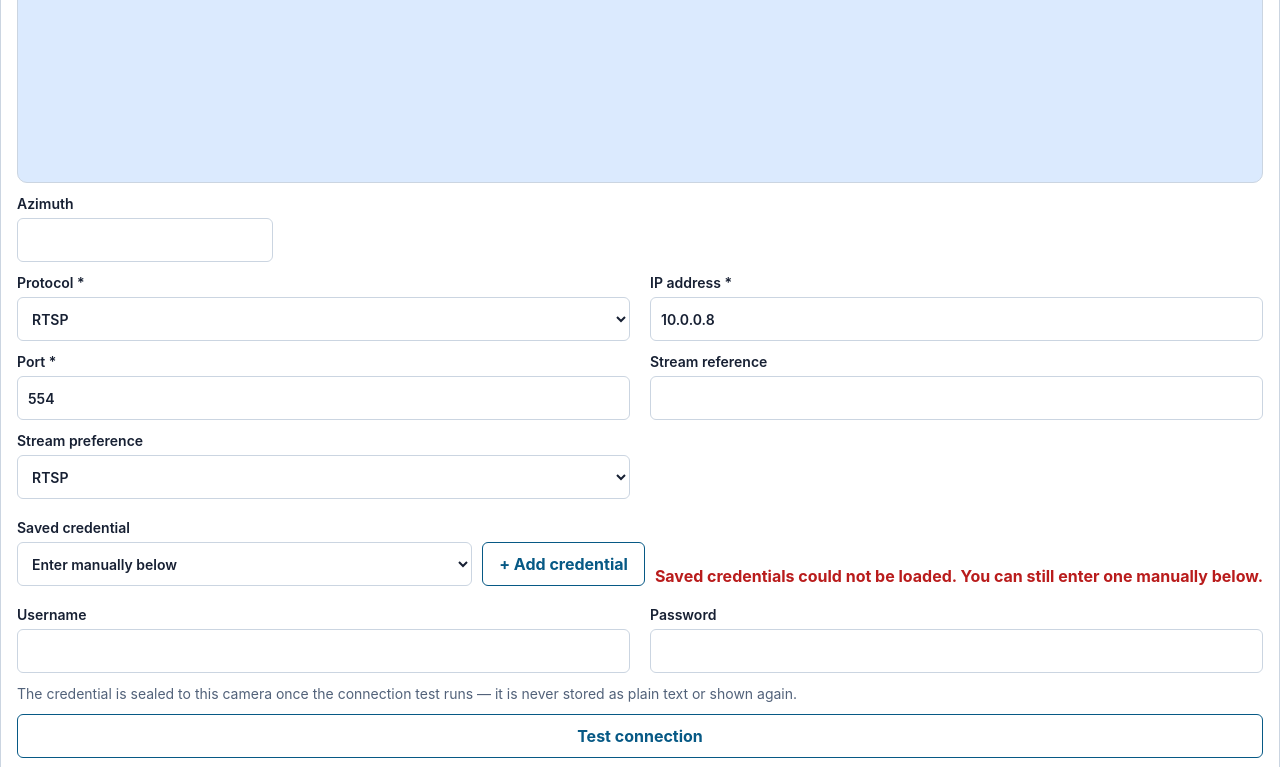
Test: CameraForm › keeps optional fields hidden until Additional details is expanded
(page scrolled)
Click the button "Test connection" at (640, 736), box [17,714,1263,758]
(page scrolled)
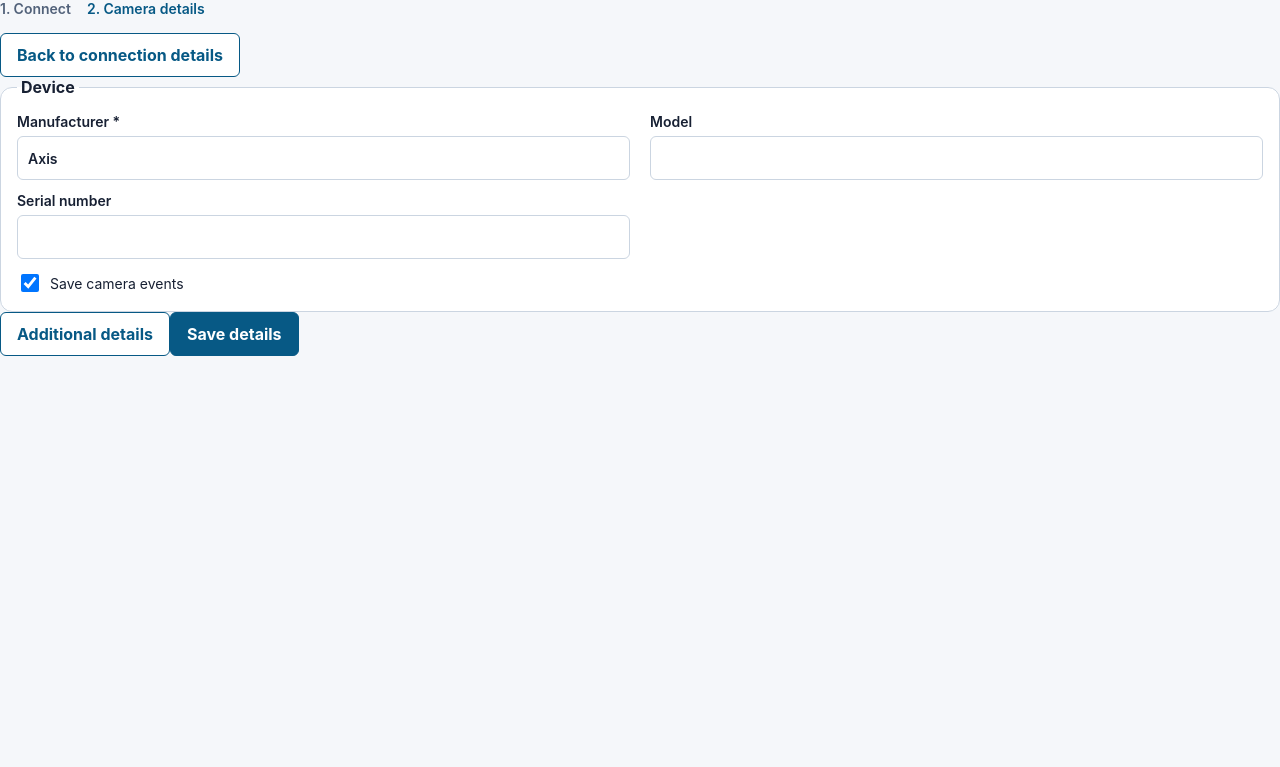
Expected: the field labelled "mounting height" is not shown
Expected: the field labelled "Manufacturer *" is shown, [17,136,630,180]
Click the button "Additional details" at (85, 334), box [0,312,170,356]
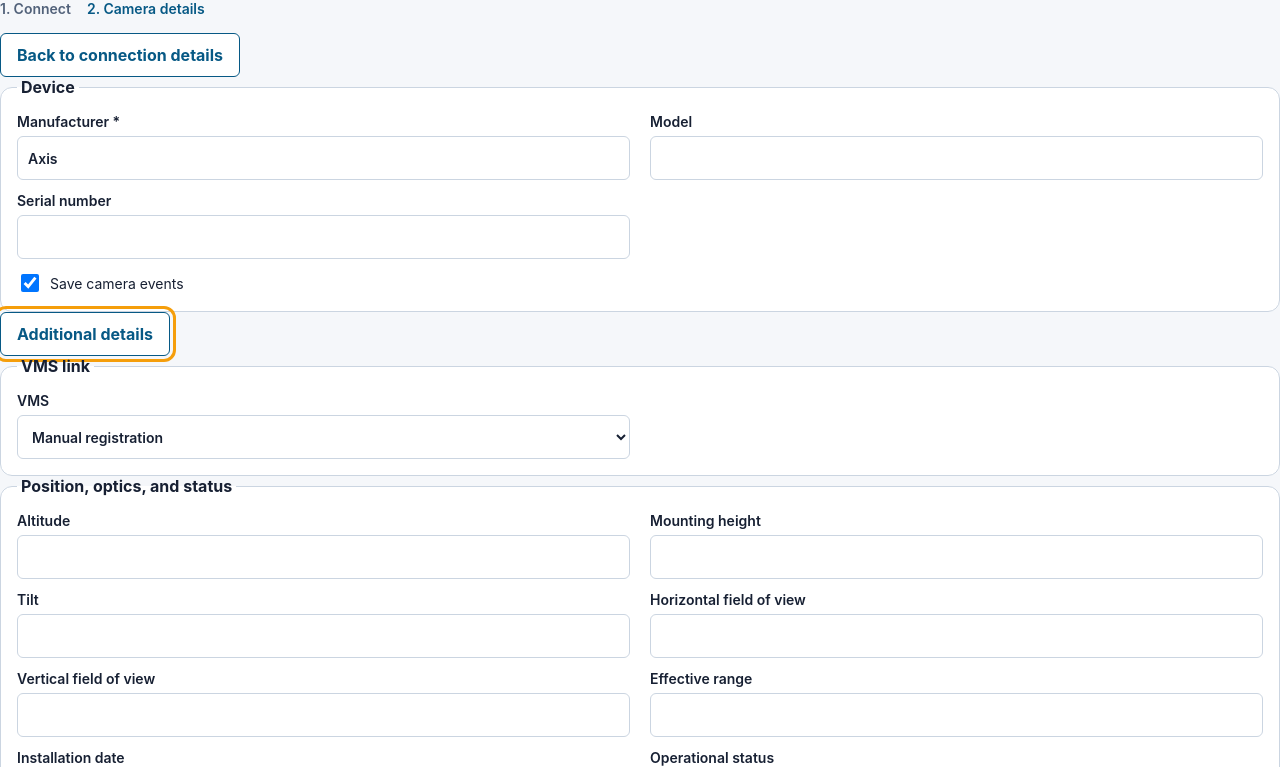
Expected: the number field labelled "Mounting height" is shown, [650,535,1263,579]
